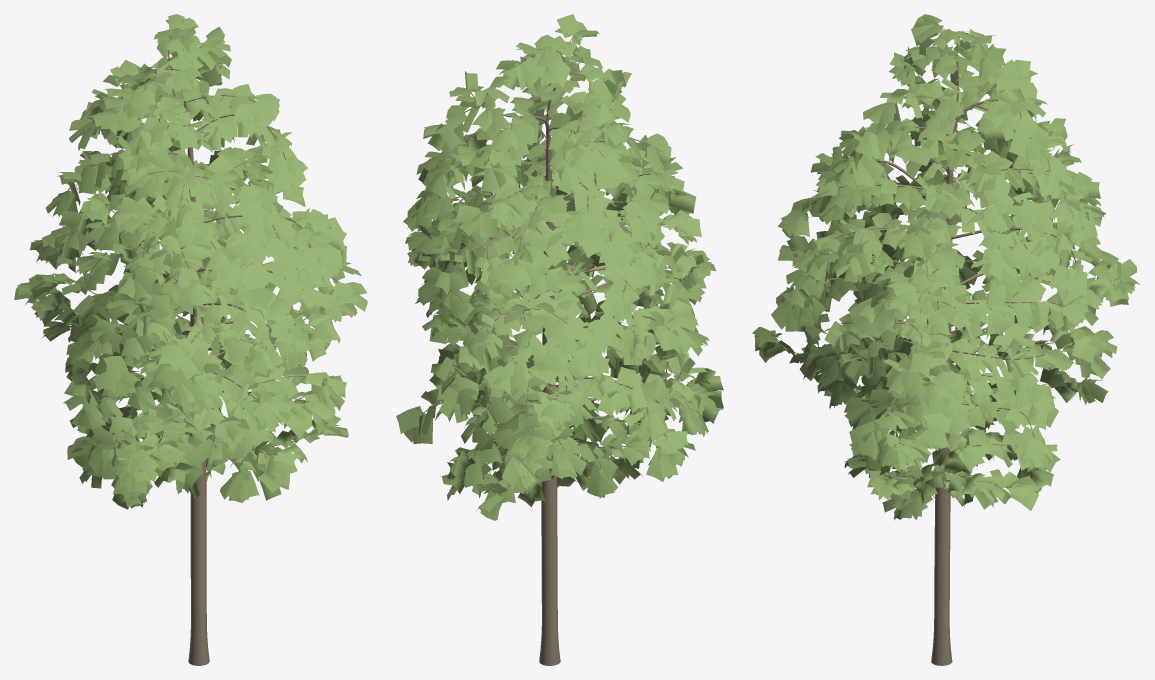
Rendered from Birch_1_lod0.glb.
3 renders of one model, left to right at view 1: azimuth 30°, elevation 25°; view 2: azimuth 150°, elevation 25°; view 3: azimuth 270°, elevation 25°, orthographic.
Visible parts, largest first — view 1: Birch_1_lod0; view 2: Birch_1_lod0; view 3: Birch_1_lod0.
Boxes of the visible parts, x1,y1,x2,y2 form: Birch_1_lod0: (14,14,367,665); Birch_1_lod0: (396,14,723,665); Birch_1_lod0: (752,14,1139,665).
Size of the model in its own units: 8.47 by 17.74 by 9.77.
